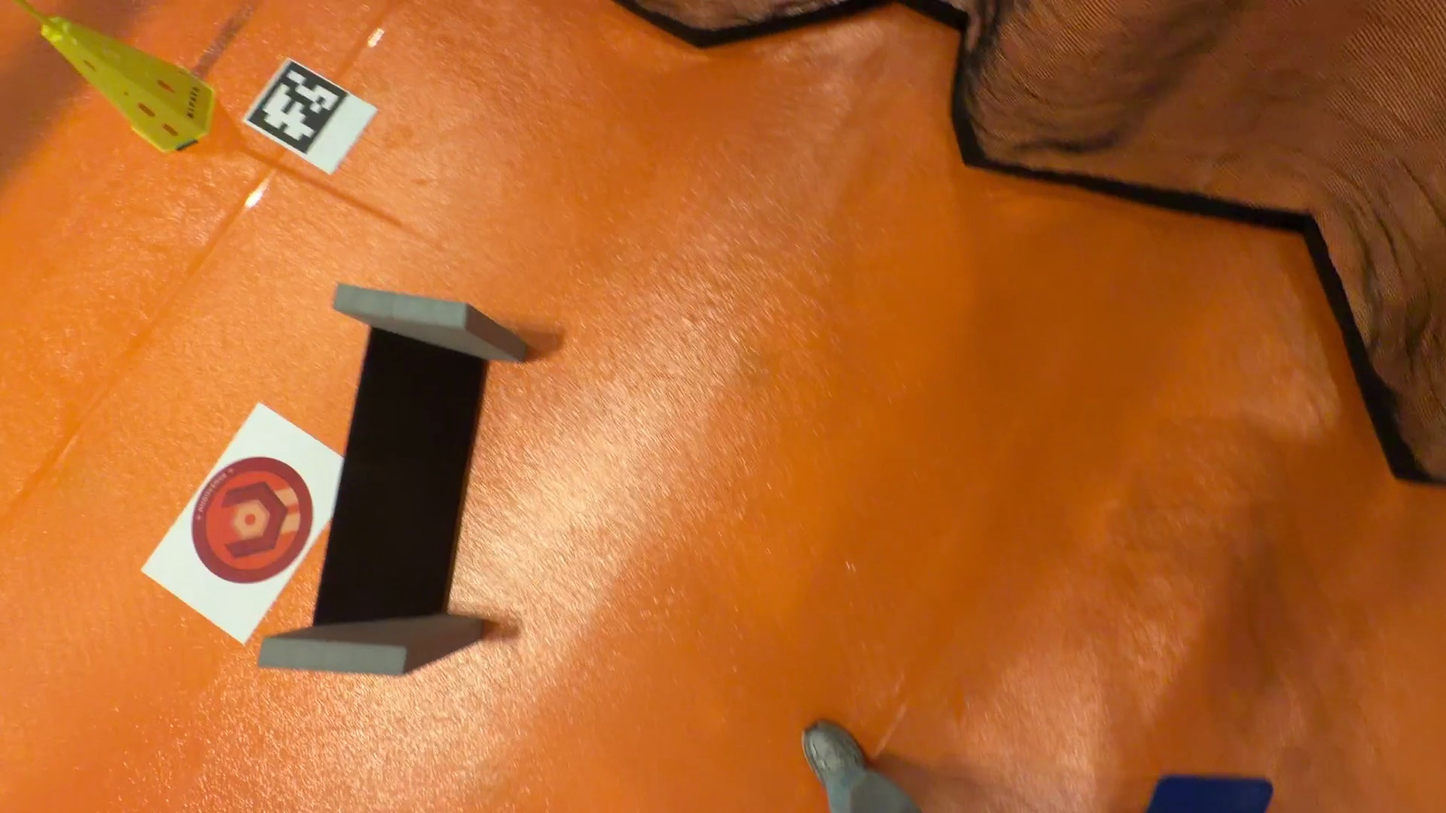landing_pad: (191, 458, 315, 583)
